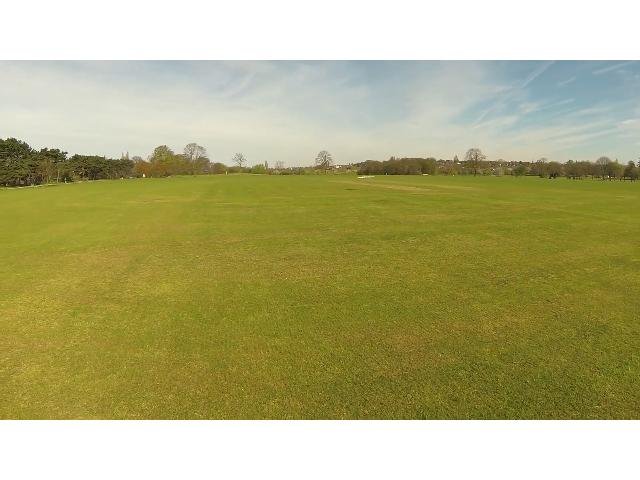Anti-Drone: (354, 172, 384, 184)
